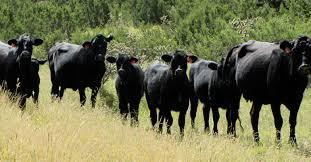cow: (224, 38, 311, 147), (46, 34, 115, 107), (145, 50, 198, 139), (0, 36, 45, 108), (188, 60, 230, 136), (107, 55, 150, 127)
